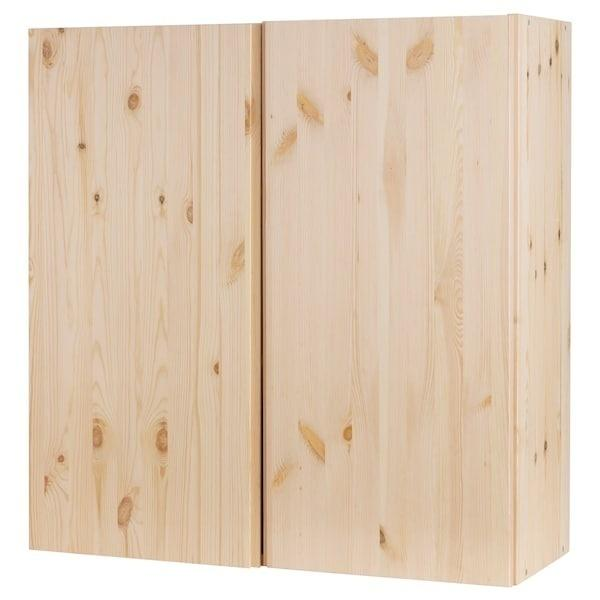cabinet_door: (262, 19, 511, 578), (28, 26, 258, 557)
